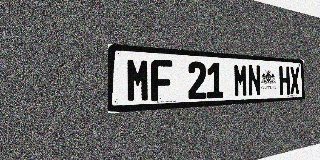1: (206, 62, 223, 99)
2: (188, 61, 206, 99)
F: (151, 59, 173, 101)
H: (279, 66, 290, 95)
M: (126, 58, 150, 103), (233, 63, 248, 97)
N: (248, 64, 261, 96)
X: (290, 67, 300, 94)
